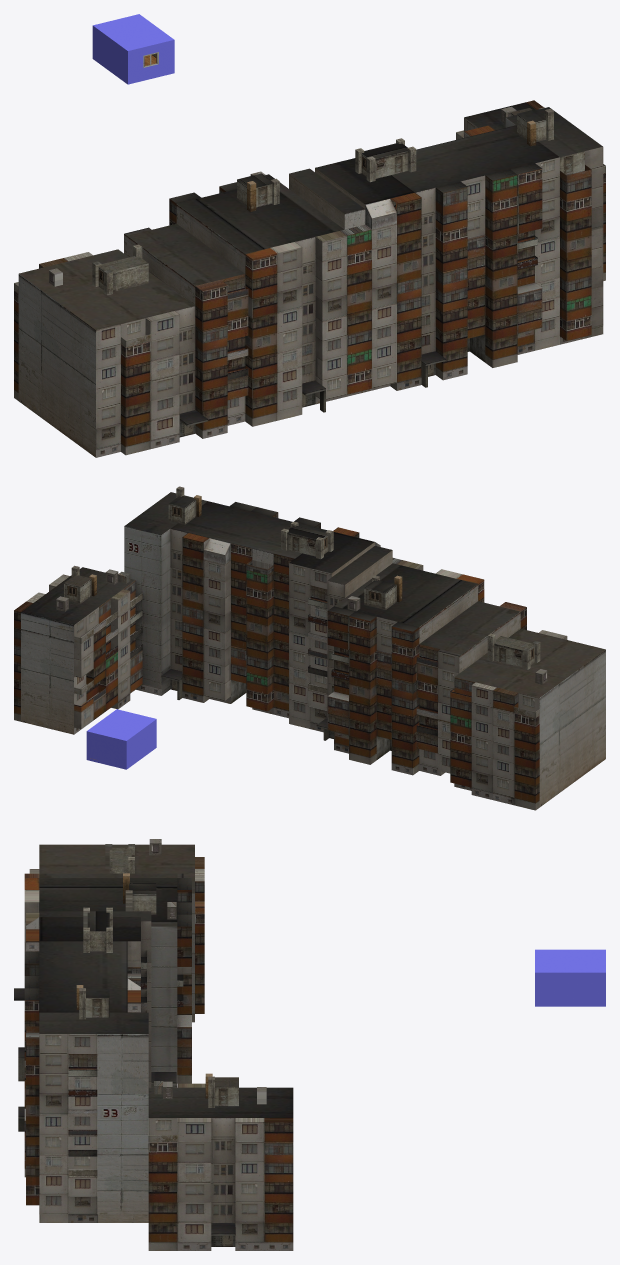
The model's file is LeafiaRoom.glb.
The picture shows the model from 3 angles, top to bottom: view 1: azimuth 30°, elevation 25°; view 2: azimuth 150°, elevation 25°; view 3: azimuth 270°, elevation 25°; orthographic projection. The views are drawn at different scales.
Visible parts, largest first — view 1: Object_20, Object_23; view 2: Object_20, Object_23; view 3: Object_20, Object_23.
Boxes of the visible parts, left/top/right/bottom form: Object_20: left=14, top=100, right=605, bottom=457; Object_23: left=92, top=14, right=174, bottom=84; Object_20: left=14, top=486, right=605, bottom=810; Object_23: left=86, top=709, right=156, bottom=769; Object_20: left=14, top=839, right=293, bottom=1250; Object_23: left=535, top=949, right=605, bottom=1006.
Bounding box in the file's own units: 60.78 × 21.69 × 53.52.
Materials: 28 (28 with a texture image).
